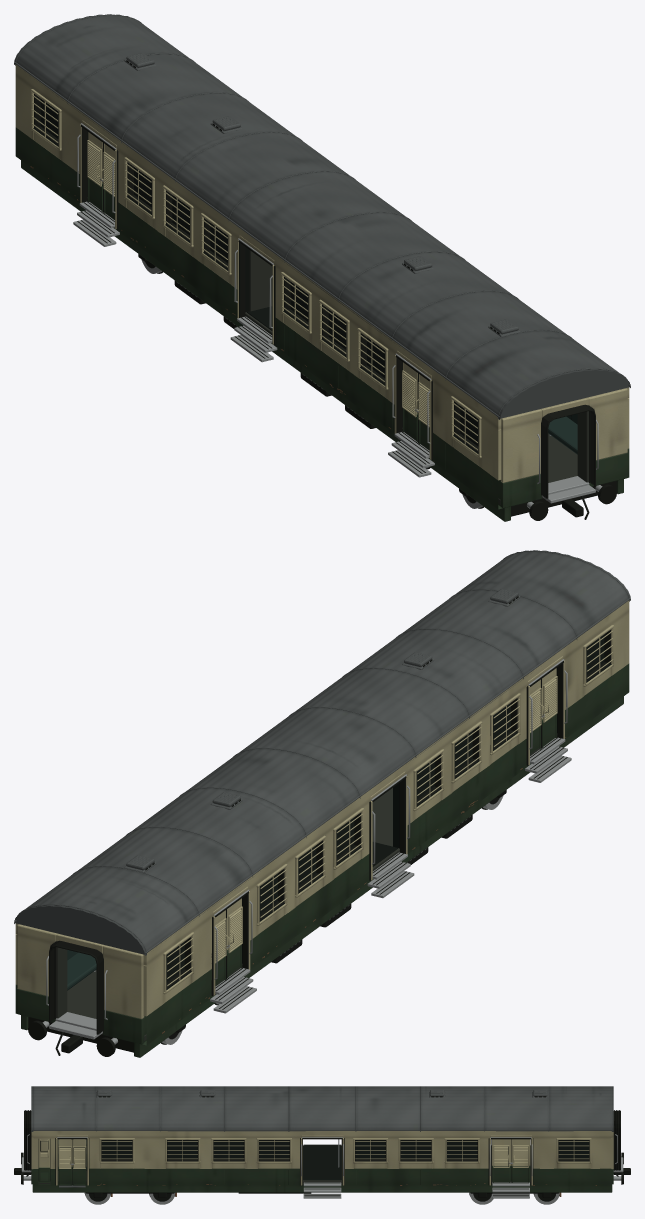
The model's file is chennai-emu-foreground.glb.
3 views of the same model, one above another, from view 1: azimuth 30°, elevation 25°; view 2: azimuth 150°, elevation 25°; view 3: azimuth 270°, elevation 25° (orthographic). The views are drawn at different scales.
Visible parts, largest first — view 1: Chennai EMU coach / Oxidized grey roof with rain streaks, Chennai EMU coach / Weathered cream enamel, Chennai EMU coach / Faded Southern Railway dark green, Chennai EMU coach / Oily bogies and rubber, Chennai EMU coach / Worn steel hardware, Chennai EMU coach / Dusty dull window glass, Chennai EMU coach / Muted interior pale paint, Chennai EMU coach / Dark window and doorway interior, Chennai EMU coach / Dim blue green bench upholstery; view 2: Chennai EMU coach / Oxidized grey roof with rain streaks, Chennai EMU coach / Weathered cream enamel, Chennai EMU coach / Faded Southern Railway dark green, Chennai EMU coach / Oily bogies and rubber, Chennai EMU coach / Worn steel hardware, Chennai EMU coach / Dusty dull window glass, Chennai EMU coach / Muted interior pale paint, Chennai EMU coach / Dark window and doorway interior, Chennai EMU coach / Dim blue green bench upholstery; view 3: Chennai EMU coach / Oxidized grey roof with rain streaks, Chennai EMU coach / Weathered cream enamel, Chennai EMU coach / Faded Southern Railway dark green, Chennai EMU coach / Oily bogies and rubber, Chennai EMU coach / Dusty dull window glass, Chennai EMU coach / Worn steel hardware, Chennai EMU coach / Dark window and doorway interior, Chennai EMU coach / Muted interior pale paint.
Boxes of the visible parts, <box> form: Chennai EMU coach / Oxidized grey roof with rain streaks: <box>14,14,630,421</box>; Chennai EMU coach / Weathered cream enamel: <box>15,64,629,482</box>; Chennai EMU coach / Faded Southern Railway dark green: <box>15,127,629,521</box>; Chennai EMU coach / Oily bogies and rubber: <box>34,60,616,520</box>; Chennai EMU coach / Worn steel hardware: <box>73,123,602,508</box>; Chennai EMU coach / Dusty dull window glass: <box>40,99,478,446</box>; Chennai EMU coach / Muted interior pale paint: <box>87,197,588,504</box>; Chennai EMU coach / Dark window and doorway interior: <box>33,128,571,454</box>; Chennai EMU coach / Dim blue green bench upholstery: <box>548,414,577,454</box>; Chennai EMU coach / Oxidized grey roof with rain streaks: <box>14,550,630,955</box>; Chennai EMU coach / Weathered cream enamel: <box>15,600,629,1018</box>; Chennai EMU coach / Faded Southern Railway dark green: <box>15,663,629,1057</box>; Chennai EMU coach / Oily bogies and rubber: <box>28,596,610,1056</box>; Chennai EMU coach / Worn steel hardware: <box>42,659,571,1044</box>; Chennai EMU coach / Dusty dull window glass: <box>166,635,604,982</box>; Chennai EMU coach / Muted interior pale paint: <box>56,733,557,1040</box>; Chennai EMU coach / Dark window and doorway interior: <box>166,664,611,990</box>; Chennai EMU coach / Dim blue green bench upholstery: <box>67,950,96,990</box>; Chennai EMU coach / Oxidized grey roof with rain streaks: <box>31,1086,613,1187</box>; Chennai EMU coach / Weathered cream enamel: <box>31,1131,613,1185</box>; Chennai EMU coach / Faded Southern Railway dark green: <box>31,1166,613,1192</box>; Chennai EMU coach / Oily bogies and rubber: <box>14,1096,630,1201</box>; Chennai EMU coach / Dusty dull window glass: <box>102,1140,588,1158</box>; Chennai EMU coach / Worn steel hardware: <box>21,1134,623,1204</box>; Chennai EMU coach / Dark window and doorway interior: <box>38,1139,589,1180</box>; Chennai EMU coach / Muted interior pale paint: <box>38,1139,530,1183</box>.
Bounding box in the file's own units: 3.78 × 4.03 × 22.08.
Materials: 10 (3 with a texture image).
